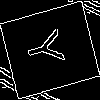Y: (24, 25, 73, 70)
